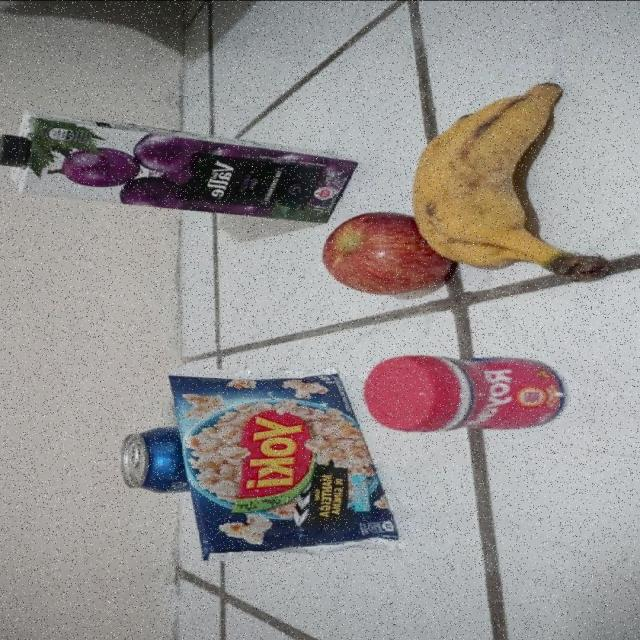Apple: (320, 210, 452, 294)
Banana: (410, 82, 620, 280)
Popcorn: (164, 368, 405, 564)
SodaCan: (118, 425, 193, 496)
Yeast: (363, 352, 567, 433)
